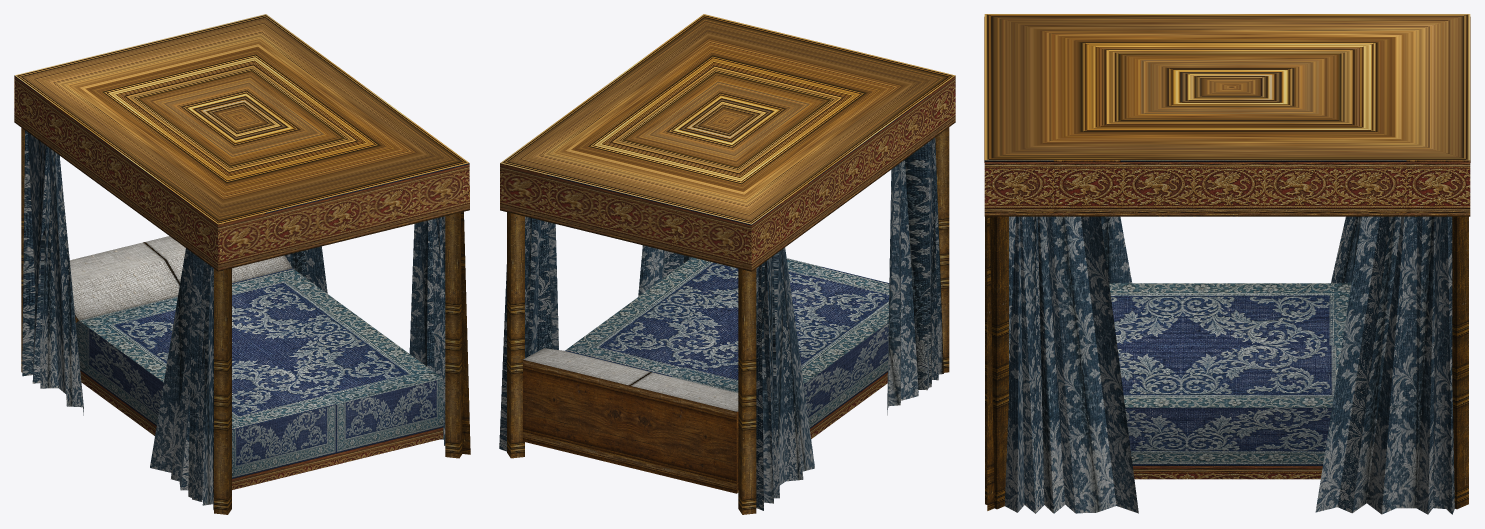
File: mm9_deco_bed02.glb
3 views of the same model, side by side, from view 1: azimuth 30°, elevation 25°; view 2: azimuth 150°, elevation 25°; view 3: azimuth 270°, elevation 25° (orthographic). The views are drawn at different scales.
Visible parts, largest first — view 1: Bed02; view 2: Bed02; view 3: Bed02.
Boxes of the visible parts, <box> form: Bed02: <box>14,14,470,514</box>; Bed02: <box>499,14,955,514</box>; Bed02: <box>984,14,1470,514</box>.
Bounding box in the file's own units: 3.1 × 3.31 × 4.18.
1 material, 1 textured.
